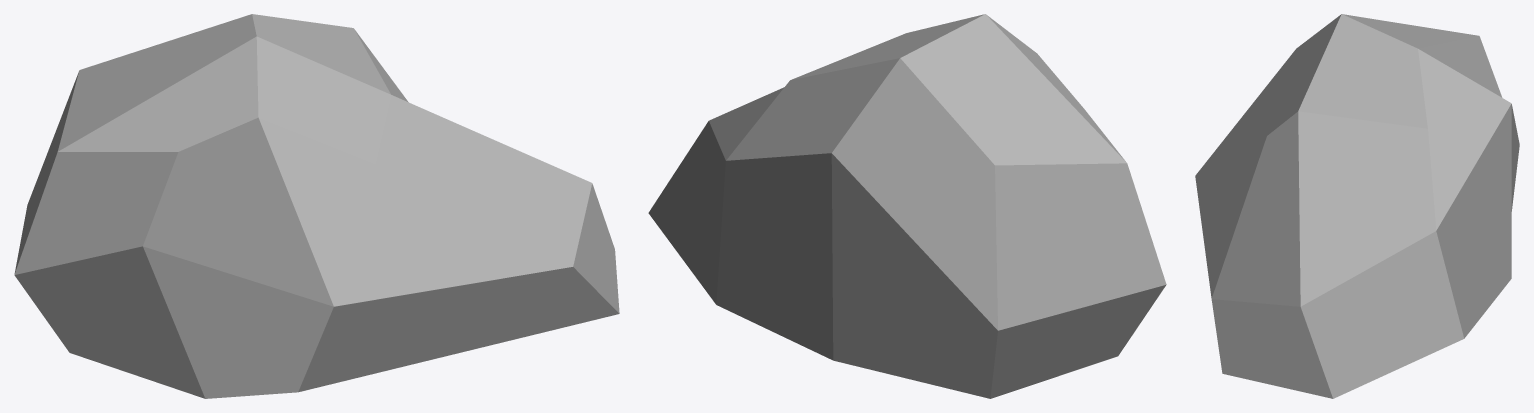
File: rock_04.fbx
The picture shows the model from 3 angles, left to right: view 1: azimuth 30°, elevation 25°; view 2: azimuth 150°, elevation 25°; view 3: azimuth 270°, elevation 25°; orthographic projection. The views are drawn at different scales.
Parts seen in each view (by area): view 1: Cube; view 2: Cube; view 3: Cube.
Part boxes in pixels (<box>): Cube: <box>14,14,619,398</box>; Cube: <box>648,14,1166,398</box>; Cube: <box>1195,14,1519,398</box>.
Size of the model in its own units: 420 by 209 by 253.
